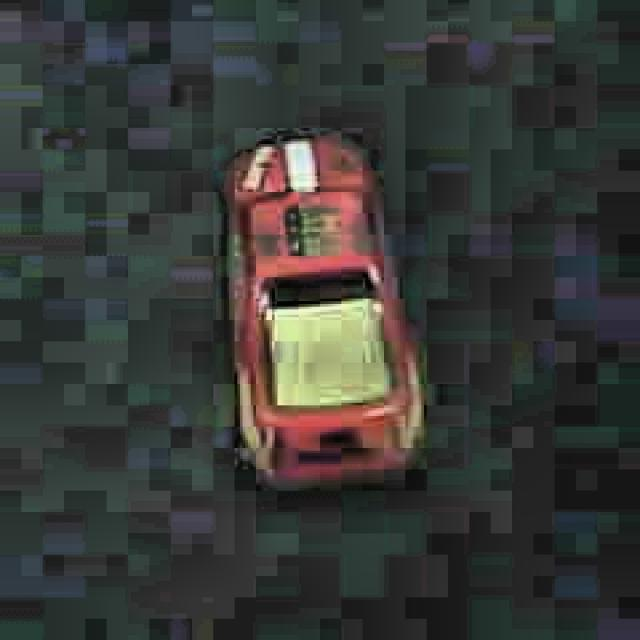car: (220, 130, 430, 494)
